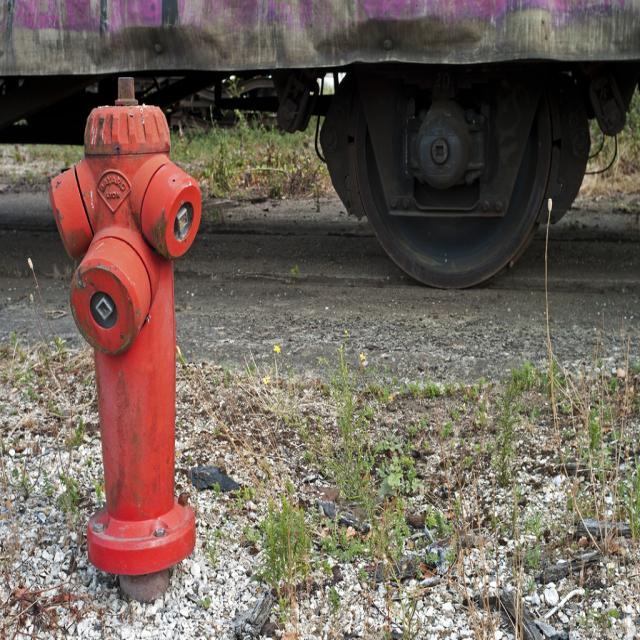fire_hydrant: (49, 76, 200, 604)
